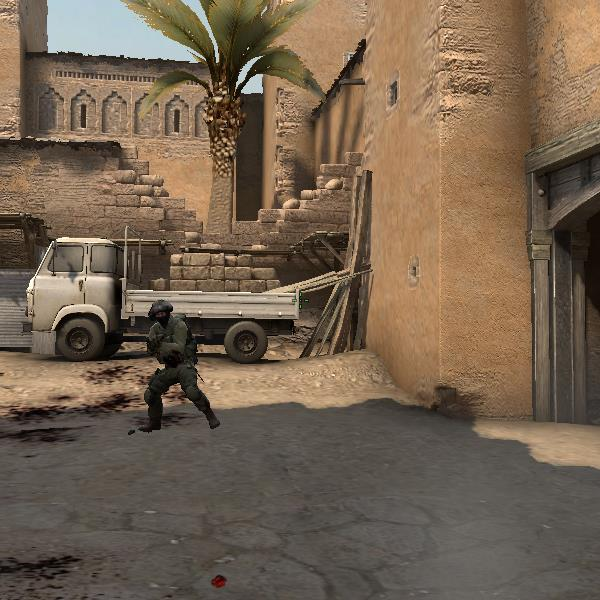ct_body: (134, 295, 213, 437)
ct_head: (147, 299, 175, 328)
